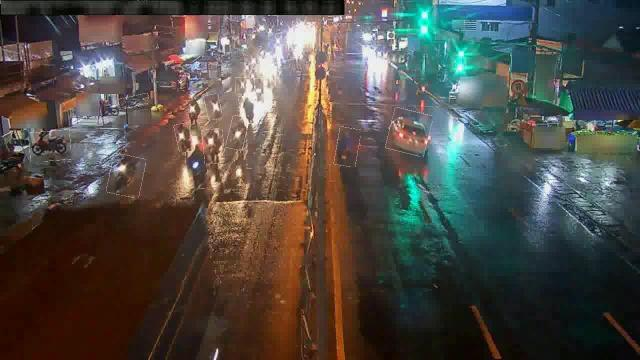Bike: (108, 154, 144, 197), (29, 130, 71, 162), (185, 143, 207, 189), (335, 127, 359, 166), (202, 128, 224, 164), (228, 116, 248, 150), (175, 124, 193, 153), (240, 96, 258, 125), (119, 94, 149, 108), (205, 94, 221, 120), (254, 78, 270, 100), (184, 98, 200, 118), (236, 77, 250, 93)
Car: (388, 109, 430, 155)
